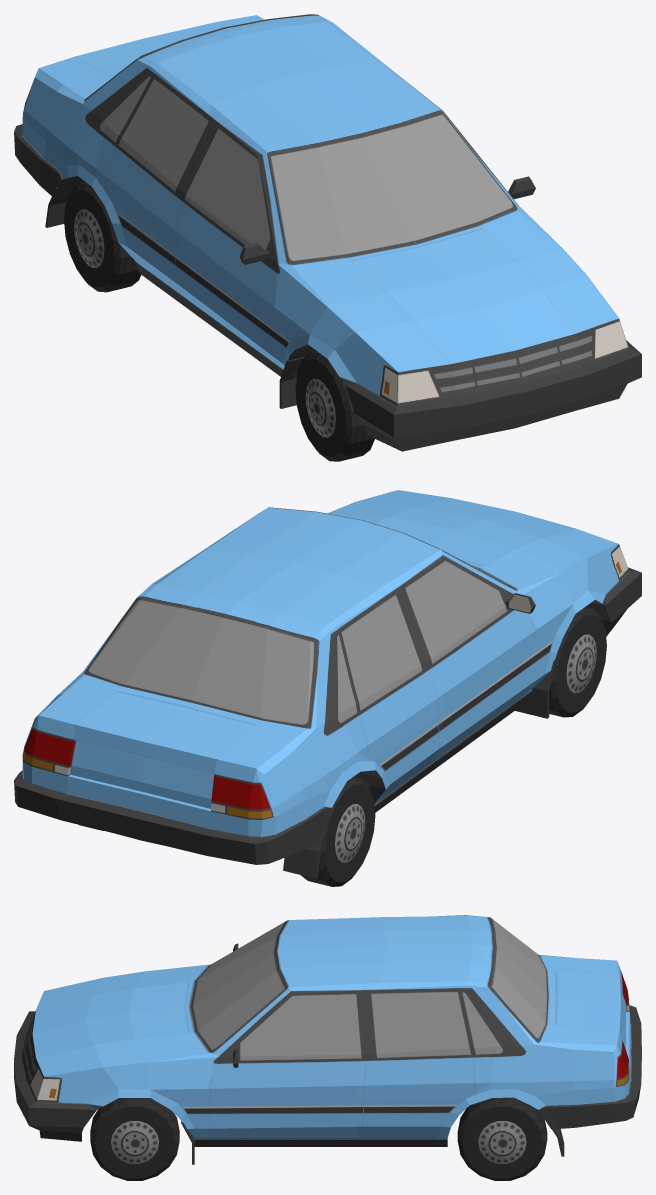
Rendered from Corolla_AE82.fbx.
The picture shows the model from 3 angles, top to bottom: view 1: azimuth 30°, elevation 25°; view 2: azimuth 150°, elevation 25°; view 3: azimuth 270°, elevation 25°; orthographic projection. The views are drawn at different scales.
Visible parts, largest first — view 1: Corolla_AE82, Cylinder.001, Cylinder.003; view 2: Corolla_AE82, Cylinder.001, Cylinder.003; view 3: Corolla_AE82, Cylinder.000, Cylinder.002.
Part boxes in pixels (x1,y1,x2,y2): Corolla_AE82: [14, 14, 641, 451]; Cylinder.001: [295, 351, 374, 461]; Cylinder.003: [64, 181, 140, 292]; Corolla_AE82: [14, 490, 641, 878]; Cylinder.001: [549, 607, 606, 717]; Cylinder.003: [301, 776, 375, 886]; Corolla_AE82: [14, 915, 641, 1164]; Cylinder.000: [457, 1097, 547, 1180]; Cylinder.002: [90, 1098, 179, 1180].
Bounding box in the file's own units: 192 × 148 × 449.
